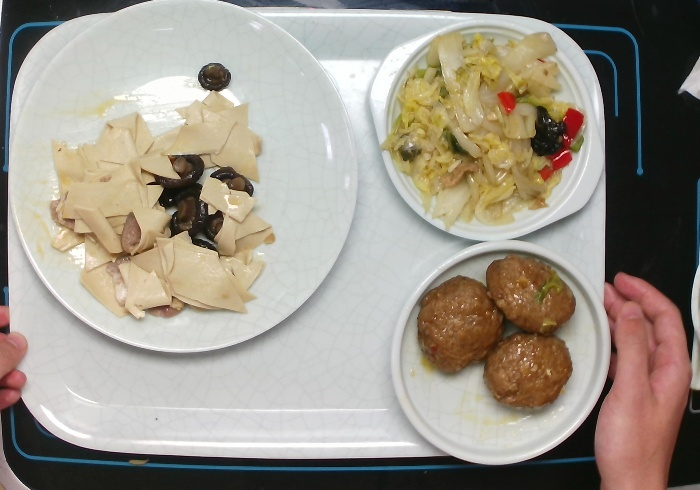JYsf-Da_Yuan_Pan: (4, 1, 365, 367)
JYsf-Shuang_Er_Pan: (365, 14, 606, 247)
JYsf-Xiao_Yuan_Pan: (386, 240, 618, 468)
